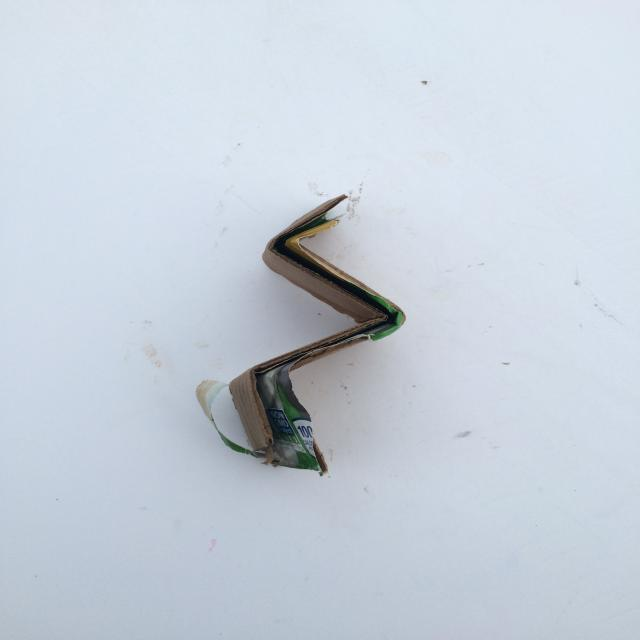cardboard: (195, 193, 406, 476)
